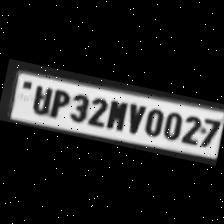0: (139, 104, 165, 138), (160, 106, 184, 141)
2: (83, 92, 108, 128), (178, 110, 203, 146)
3: (65, 90, 90, 124)
7: (196, 114, 220, 149)
M: (103, 97, 128, 133)
P: (46, 86, 71, 119)
U: (26, 82, 54, 116)
V: (122, 100, 146, 136)
